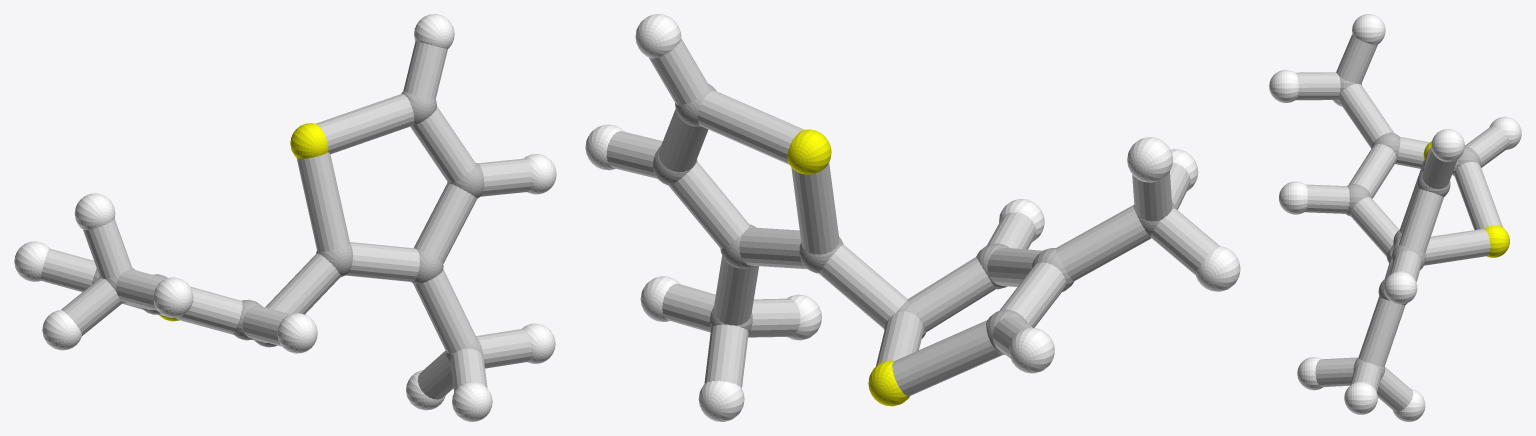
Rendered from Methylthiophene_Phi_60_Theta_270_Methylthiophene.glb.
3 renders of one model, left to right at view 1: azimuth 30°, elevation 25°; view 2: azimuth 150°, elevation 25°; view 3: azimuth 270°, elevation 25°, orthographic. The views are drawn at different scales.
Visible parts, largest first — view 1: grp7965, grp3621, grp1, grp7241; view 2: grp7965, grp3621, grp1, grp7241; view 3: grp7965, grp3621, grp1, grp7241.
Part boxes in pixels (x1,y1,x2,y2): grp7965: (40, 41, 532, 399); grp3621: (14, 14, 556, 421); grp1: (92, 91, 484, 365); grp7241: (158, 123, 328, 321); grp7965: (606, 38, 1219, 396); grp3621: (585, 14, 1240, 421); grp1: (653, 83, 1175, 354); grp7241: (787, 129, 909, 406); grp7965: (1295, 34, 1509, 411); grp3621: (1269, 14, 1521, 421); grp1: (1336, 77, 1481, 379); grp7241: (1423, 141, 1509, 257).
Bounding box in the file's own units: 9.23 × 5.98 × 4.52.
